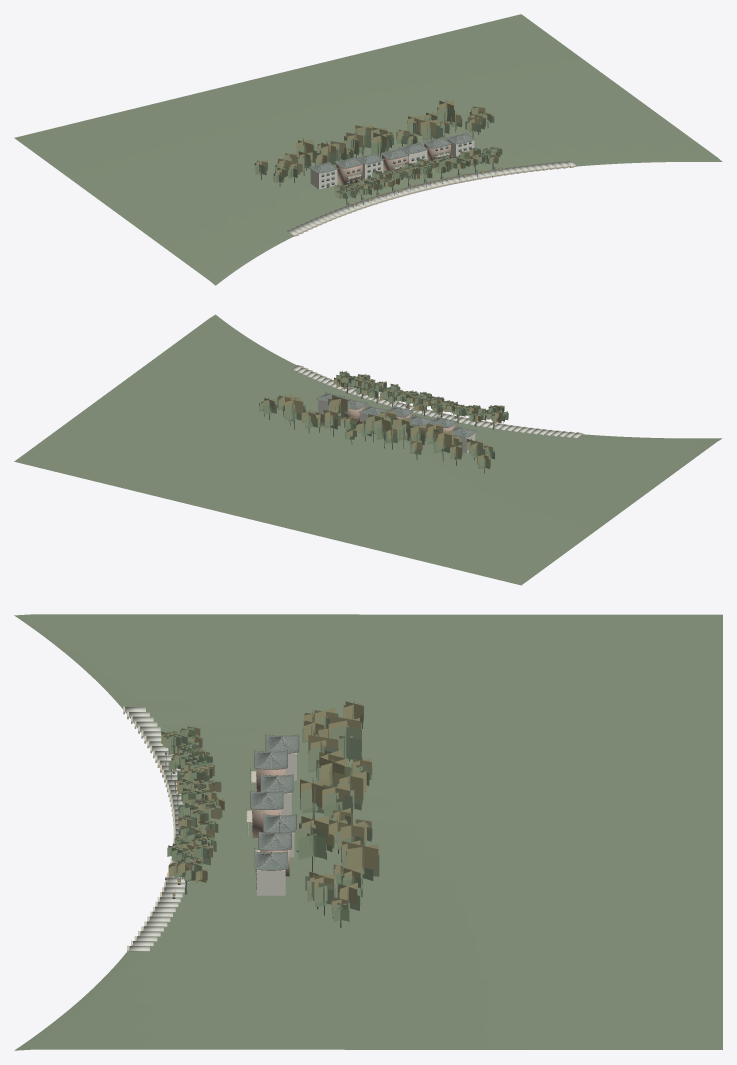
File: lakeside-rain.glb
The picture shows the model from 3 angles, top to bottom: view 1: azimuth 30°, elevation 25°; view 2: azimuth 150°, elevation 25°; view 3: azimuth 270°, elevation 25°; orthographic projection. The views are drawn at different scales.
Parts seen in each view (by area): view 1: earth, crown2, crown1, crown0, paving, roof, stoneedge, plaster, ridge, brick, window; view 2: earth, crown2, crown1, crown0, paving, roof, ridge; view 3: earth, crown2, crown1, crown0, roof, paving, ridge, plaster, stoneedge, brick, wooddark.
Part boxes in pixels (x1,y1,x2,y2): earth: [14, 14, 722, 285]; crown2: [256, 99, 501, 197]; crown1: [254, 106, 499, 198]; crown0: [255, 107, 502, 199]; paving: [287, 161, 575, 234]; roof: [310, 133, 474, 173]; stoneedge: [292, 143, 576, 236]; plaster: [310, 139, 474, 189]; ridge: [311, 132, 495, 203]; brick: [336, 144, 450, 185]; window: [321, 141, 471, 187]; earth: [14, 314, 722, 585]; crown2: [262, 371, 506, 464]; crown1: [260, 372, 508, 467]; crown0: [259, 371, 508, 469]; paving: [291, 365, 582, 438]; roof: [317, 392, 475, 437]; ridge: [319, 392, 475, 436]; earth: [14, 614, 722, 1050]; crown2: [162, 700, 378, 912]; crown1: [164, 705, 378, 916]; crown0: [161, 715, 379, 922]; roof: [251, 735, 298, 869]; paving: [125, 707, 188, 951]; ridge: [165, 733, 298, 879]; plaster: [257, 752, 296, 895]; stoneedge: [123, 706, 260, 952]; brick: [252, 768, 289, 876]; wooddark: [165, 734, 299, 884].
Size of the model in its own units: 250 by 14.6 by 172.
